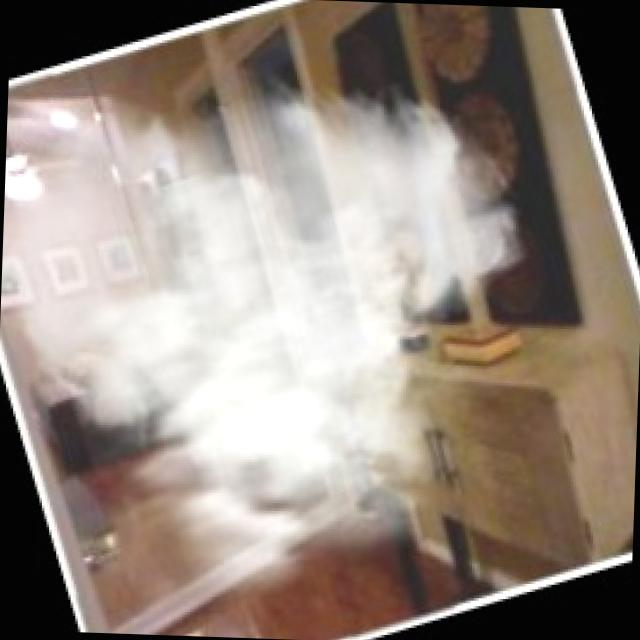smoke: (0, 80, 456, 549)
